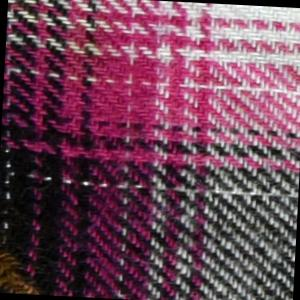Oil Stain: (1, 244, 43, 295)
